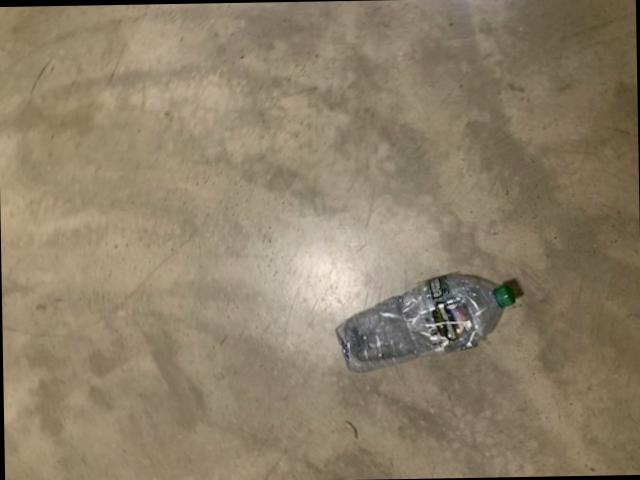plastic: (338, 271, 521, 368)
